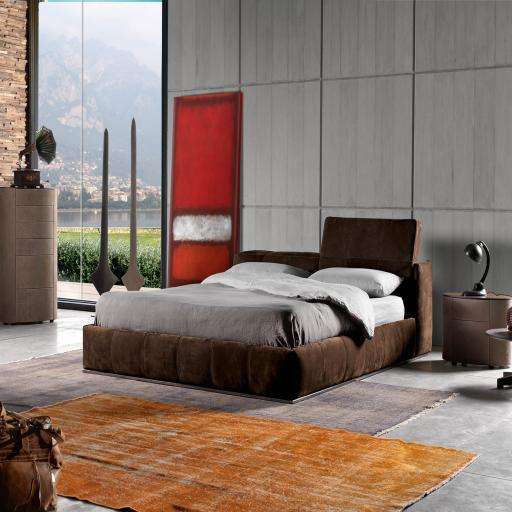bed: (81, 217, 433, 404)
